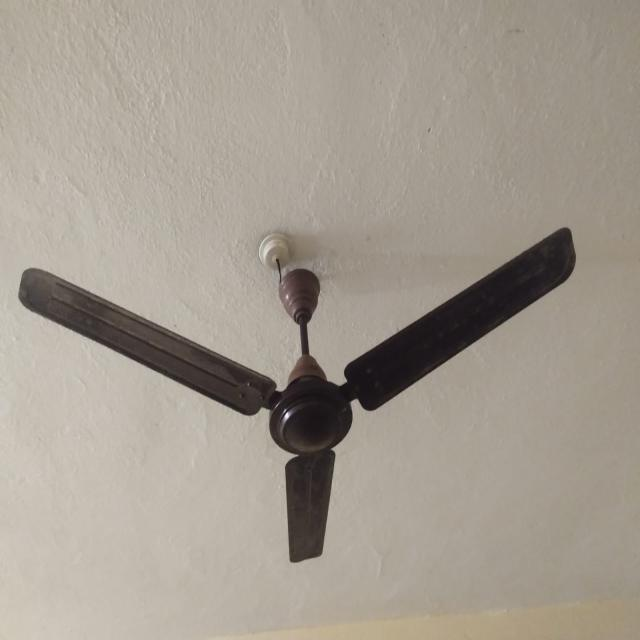fan_off: (15, 226, 578, 563)
